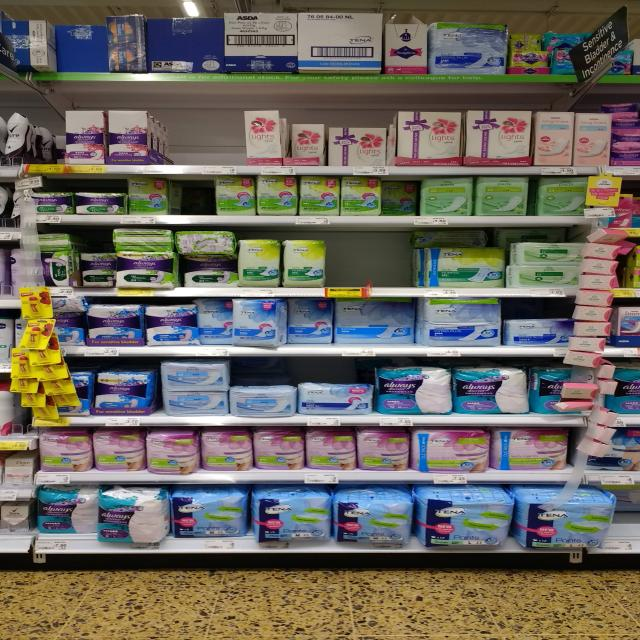void: (326, 231, 369, 298), (197, 111, 242, 174), (158, 103, 195, 175), (32, 102, 66, 172), (371, 234, 408, 298), (612, 485, 640, 549), (178, 175, 215, 223)
